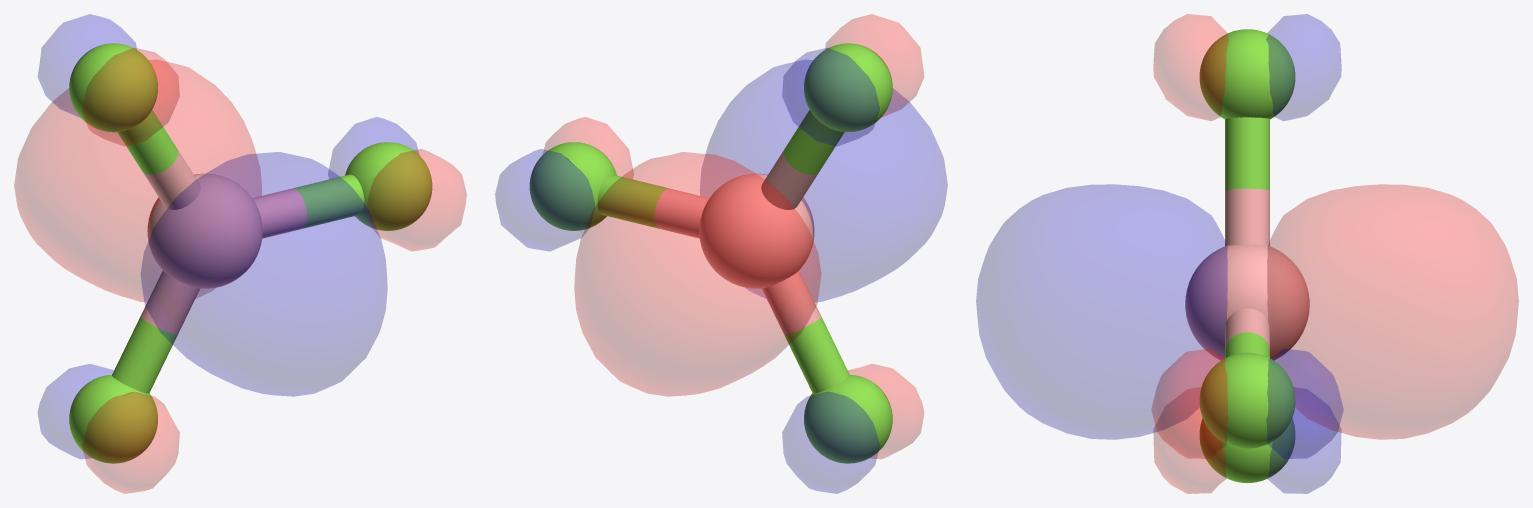
The picture shows the model from 3 angles, left to right: view 1: azimuth 30°, elevation 25°; view 2: azimuth 150°, elevation 25°; view 3: azimuth 270°, elevation 25°; orthographic projection. The views are drawn at different scales.
Parts seen in each view (by area): view 1: surface (×2), atoms, bonds; view 2: surface (×2), atoms, bonds; view 3: surface (×2), atoms, bonds.
Boxes of the visible parts, x1=… form: surface (×2): x1=14, y1=14, x2=466, y2=493; atoms: x1=69, y1=43, x2=432, y2=463; bonds: x1=112, y1=110, x2=364, y2=393; surface (×2): x1=495, y1=14, x2=947, y2=493; atoms: x1=529, y1=43, x2=892, y2=463; bonds: x1=597, y1=110, x2=849, y2=393; surface (×2): x1=976, y1=14, x2=1518, y2=493; atoms: x1=1185, y1=29, x2=1309, y2=483; bonds: x1=1225, y1=117, x2=1269, y2=358.
Bounding box in the file's own units: 3.11 × 3.47 × 3.62.
